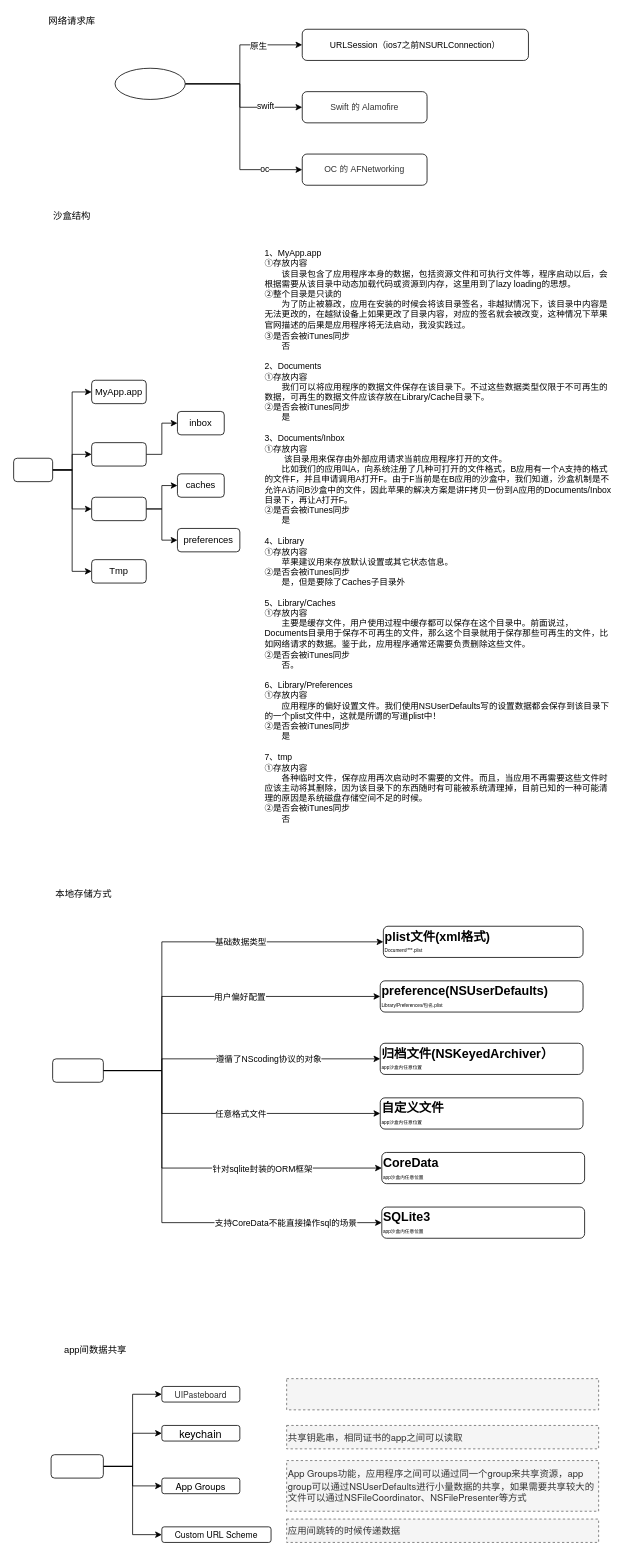
The diagram is 628 pixels wide and 1561 high, and some of its shapes have lost their labels. The box of each missing label's shape, as (x1, y1, x2, y2) in pixels:
app: (13, 457, 53, 482)
Documents: (91, 442, 146, 466)
http网络库: (114, 67, 185, 99)
Library: (91, 496, 146, 521)
存储方式: (52, 1058, 103, 1082)
应用间共享: (50, 1454, 103, 1478)
粘贴板，所有应用都可以读取，建议不要使用全局的粘贴板，而是自己根据名字创建一个新的粘贴板，防止其它地方全局拷贝的影响: (286, 1378, 599, 1410)
